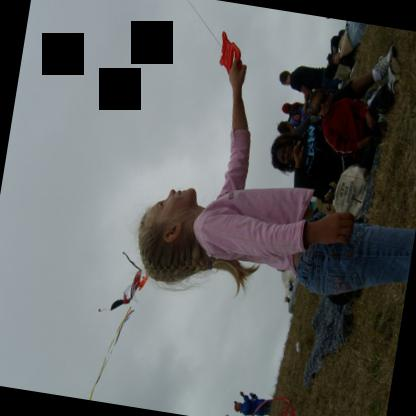handbag: (332, 163, 369, 221)
